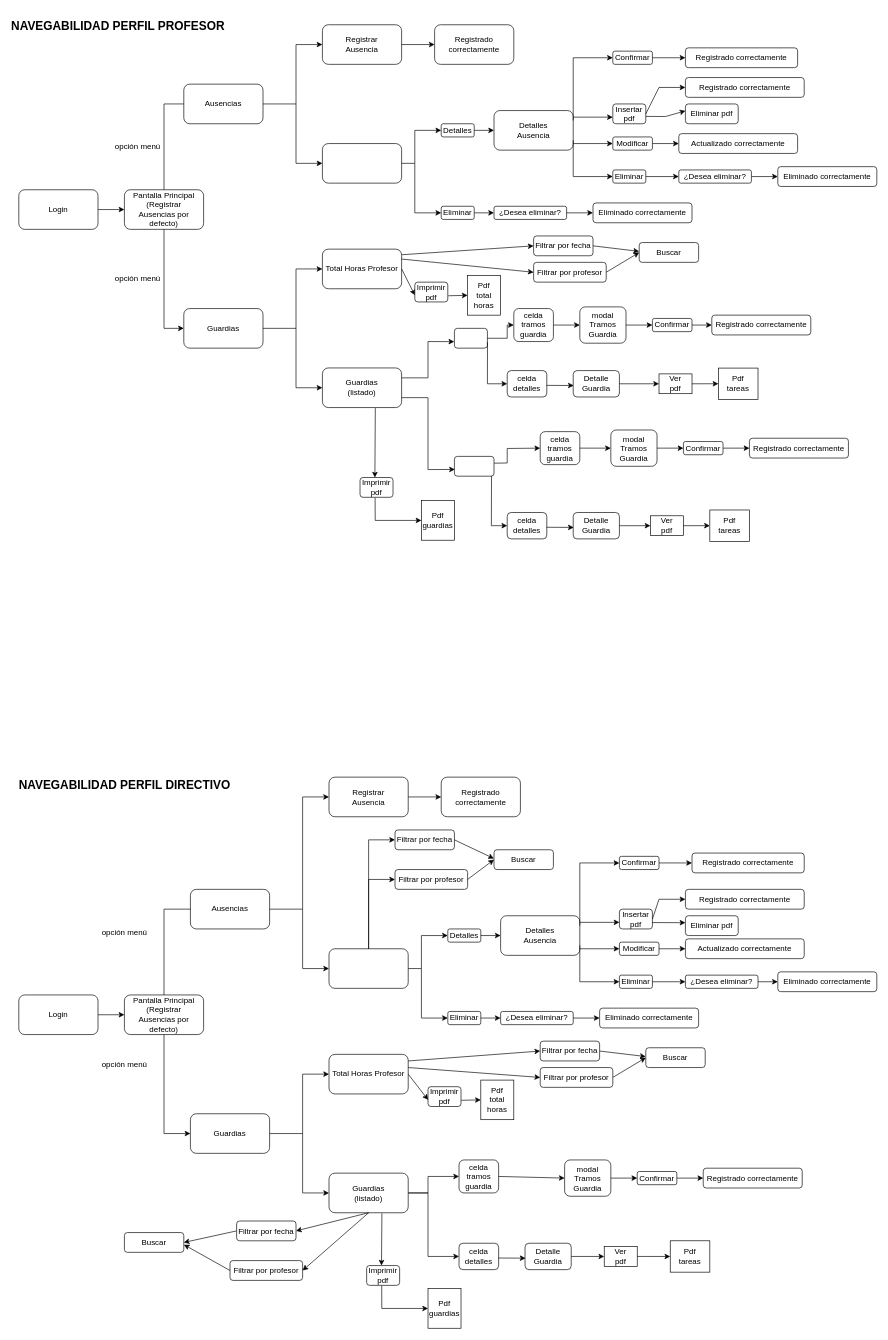
Image size: 888x1340. Some labels were removed from this diagram. The shapes that lost their labels are listed below. From the top down, each one's box as (x1, y1, x2, y2) in pixels, then its label:
(322, 143, 402, 183): Mis Ausencias (listado)
(454, 328, 487, 348): Hoy
(454, 456, 494, 476): Día siguiente
(328, 948, 408, 988): Ausencias (listado)
